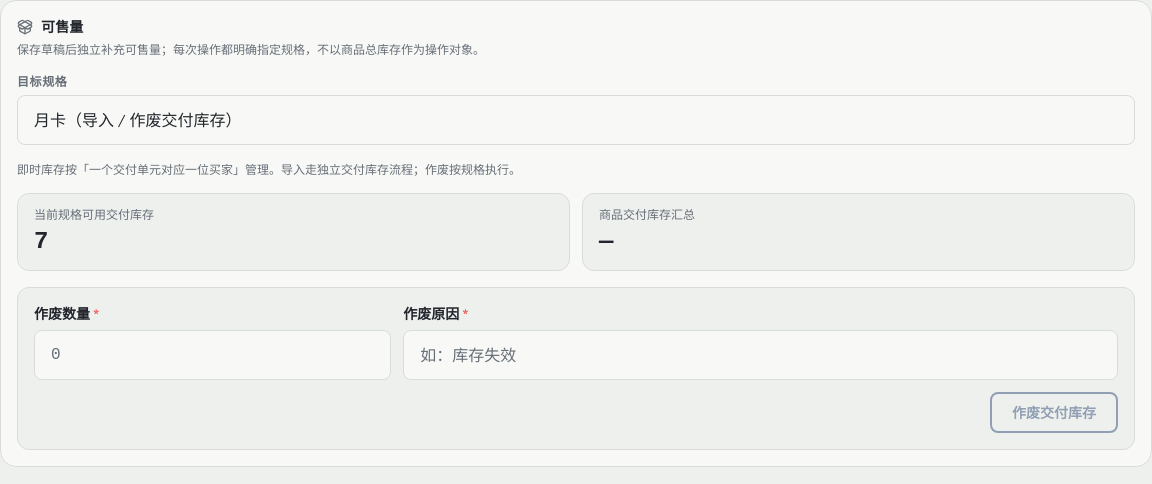
Test case: ProductAvailabilityStep (spec §8.1, D-CAT-12/13) › guards duplicate submits while a void is in flight
The image size is (1152, 484).
Type "1" into the number field with test id "availability-void-count" at (213, 355), box [34, 330, 391, 380]
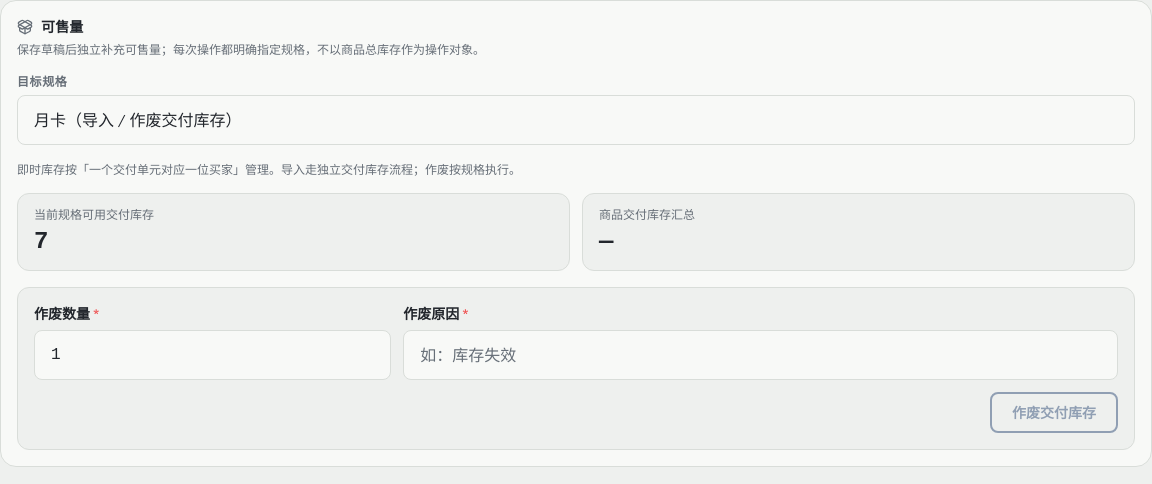
Type "失效" into the field with test id "availability-void-reason" at (761, 355), box [403, 330, 1118, 380]
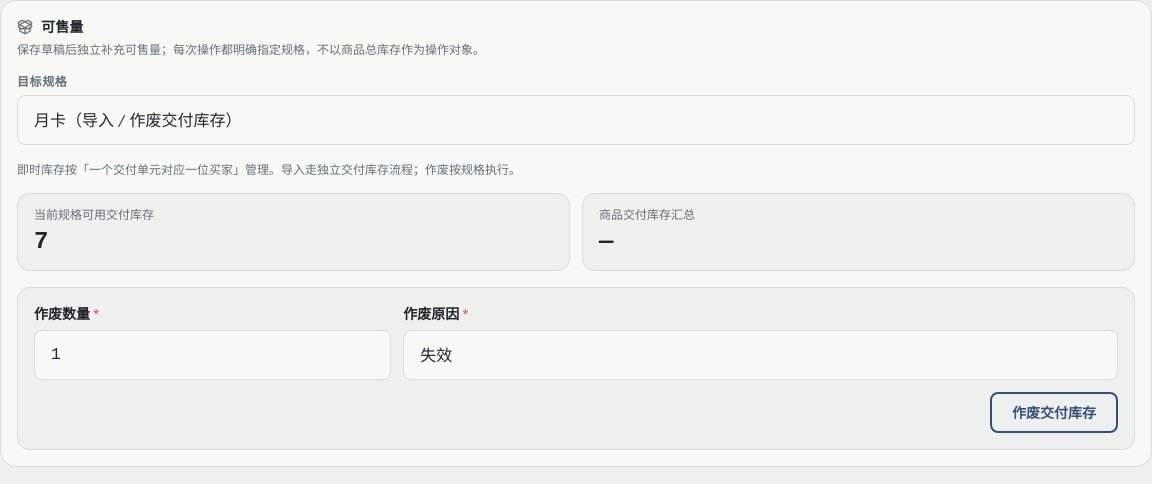
Click the button with test id "availability-void-submit" at (1054, 412), box [990, 392, 1118, 433]
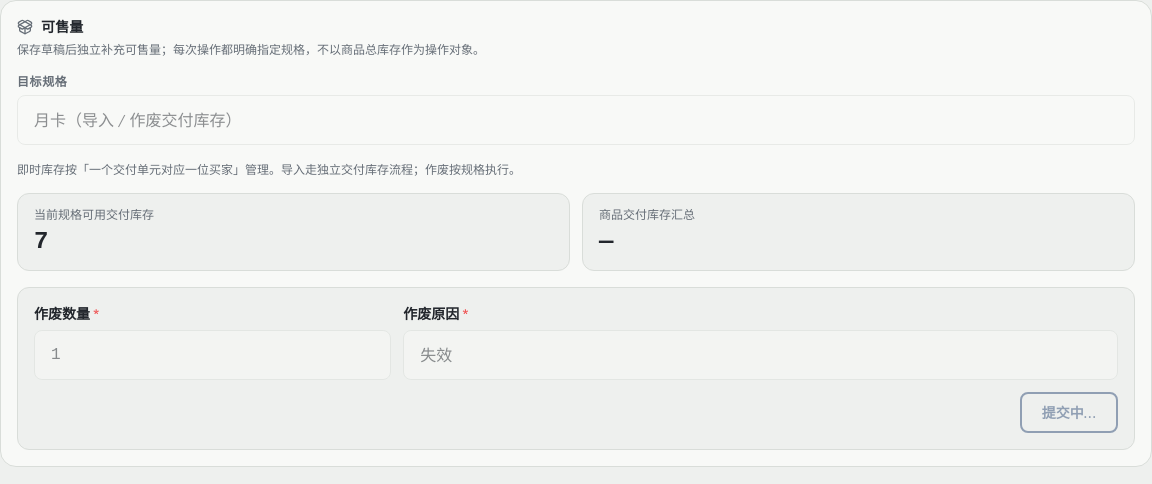
Expected: the button with test id "availability-void-submit" is disabled
Click the button with test id "availability-void-submit" at (1069, 412), box [1020, 392, 1118, 433]
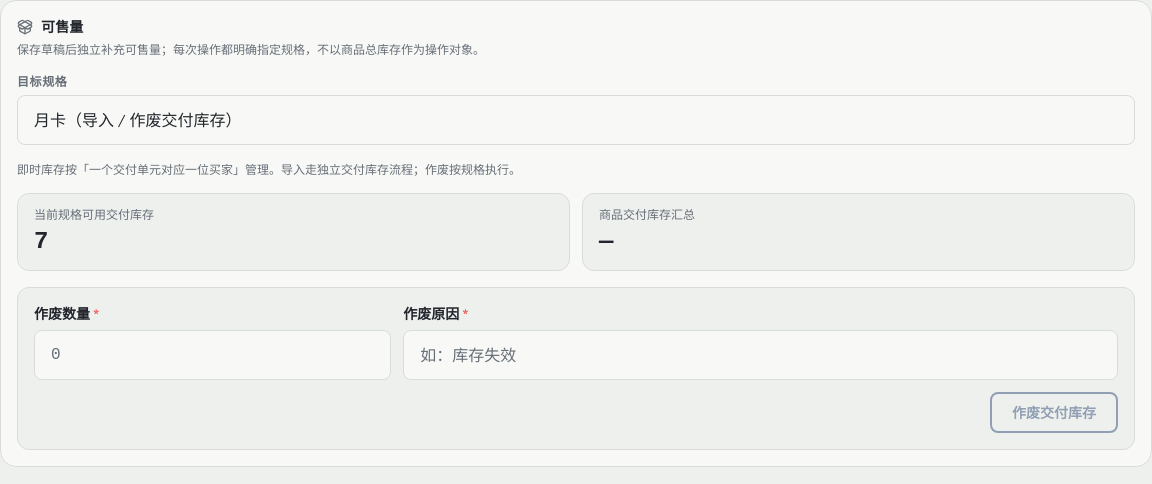
Expected: the button with test id "availability-void-submit" is disabled, [990, 392, 1118, 433]
Expected: the number field with test id "availability-void-count" is not empty
// The in-flight lock is released: refilling the form re-enables the CTA.
Type "2" into the number field with test id "availability-void-count" at (213, 355), box [34, 330, 391, 380]
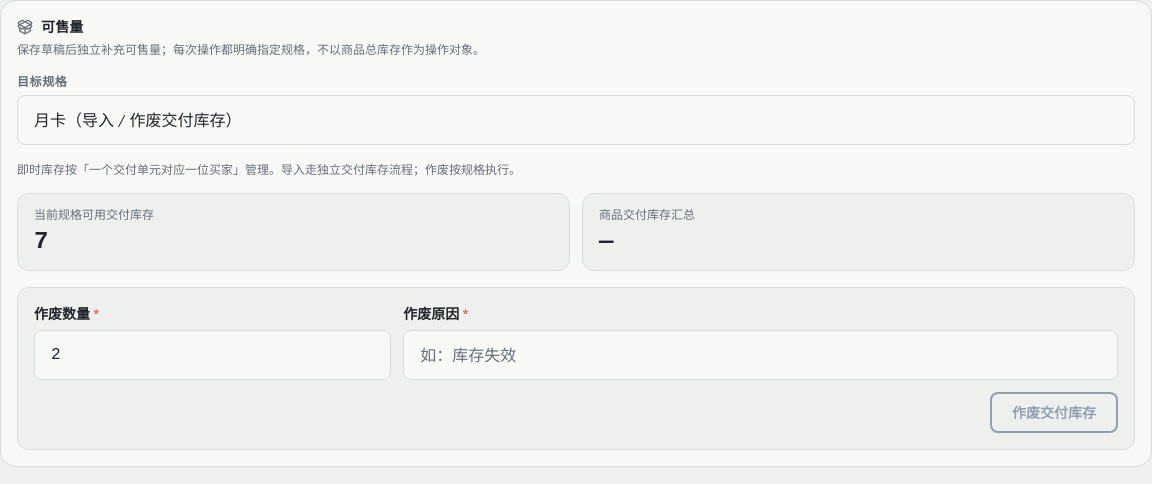
Type "补货" into the field with test id "availability-void-reason" at (761, 355), box [403, 330, 1118, 380]
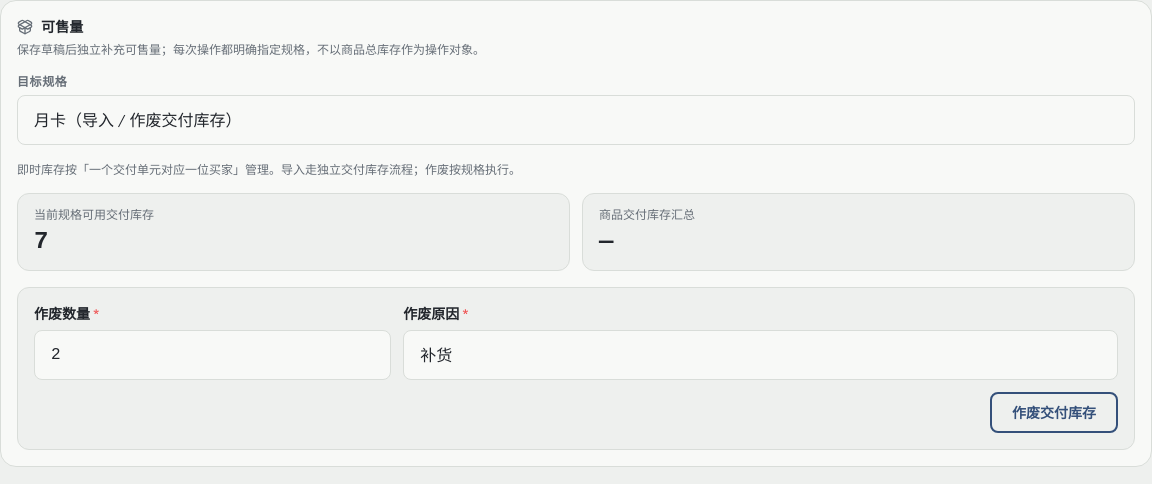
Expected: the button with test id "availability-void-submit" is enabled, [990, 392, 1118, 433]
